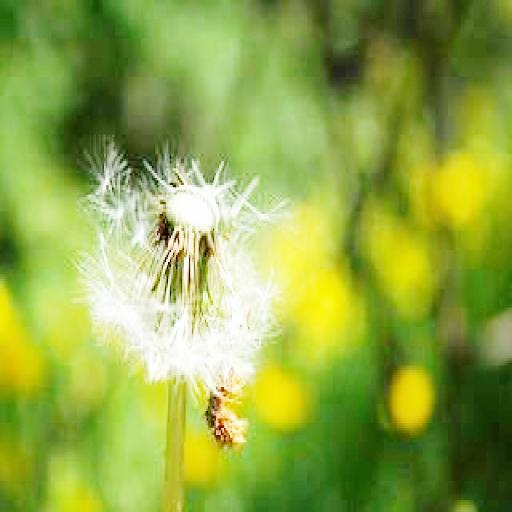dandelion: (86, 137, 277, 382)
